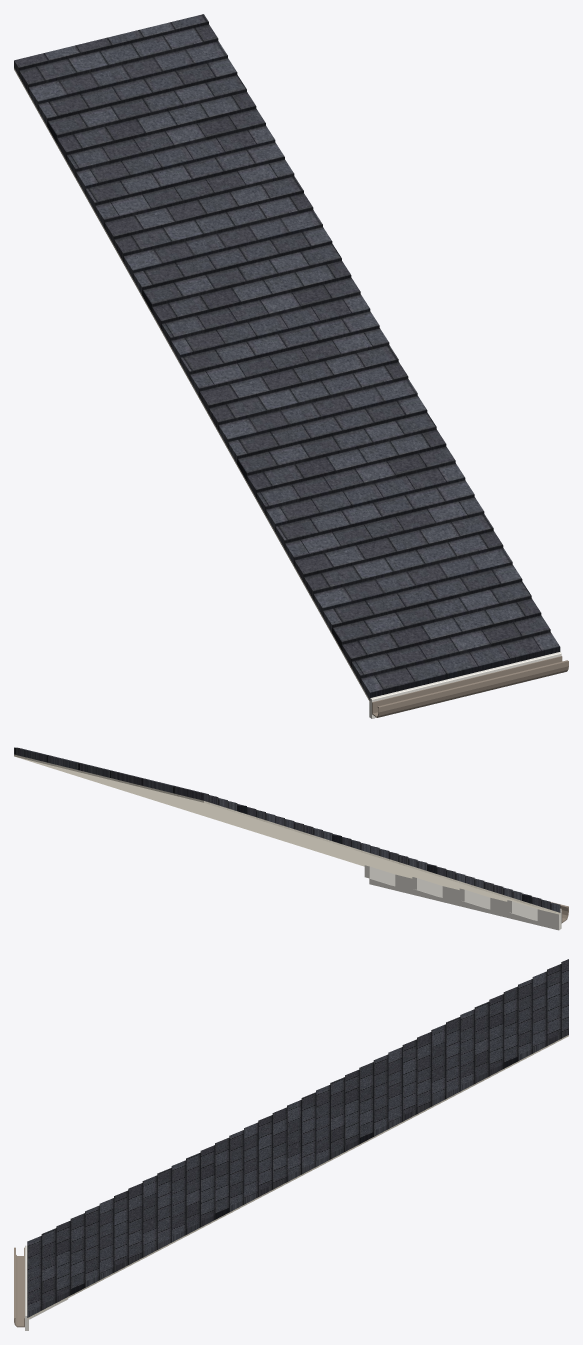
The model's file is roof_main_0.glb.
3 views of the same model, one above another, from view 1: azimuth 30°, elevation 25°; view 2: azimuth 150°, elevation 25°; view 3: azimuth 270°, elevation 25° (orthographic). The views are drawn at different scales.
Parts seen in each view (by area): view 1: roof_main_0_shingles, roof_main_0_gutter, roof_main_0_plaster, roof_main_0_trim; view 2: roof_main_0_plaster, roof_main_0_shingles, roof_main_0_trim; view 3: roof_main_0_shingles, roof_main_0_plaster, roof_main_0_gutter.
Boxes of the visible parts, bbox=[...] form: roof_main_0_shingles: bbox=[14, 14, 560, 700]; roof_main_0_gutter: bbox=[372, 656, 568, 717]; roof_main_0_plaster: bbox=[14, 68, 370, 702]; roof_main_0_trim: bbox=[369, 652, 561, 718]; roof_main_0_plaster: bbox=[14, 754, 560, 914]; roof_main_0_shingles: bbox=[14, 747, 560, 912]; roof_main_0_trim: bbox=[364, 865, 561, 930]; roof_main_0_shingles: bbox=[27, 959, 568, 1317]; roof_main_0_plaster: bbox=[27, 1035, 568, 1319]; roof_main_0_gutter: bbox=[14, 1247, 24, 1327].
Size of the model in its own units: 2 by 3.99 by 6.66.
4 materials, 2 textured.
